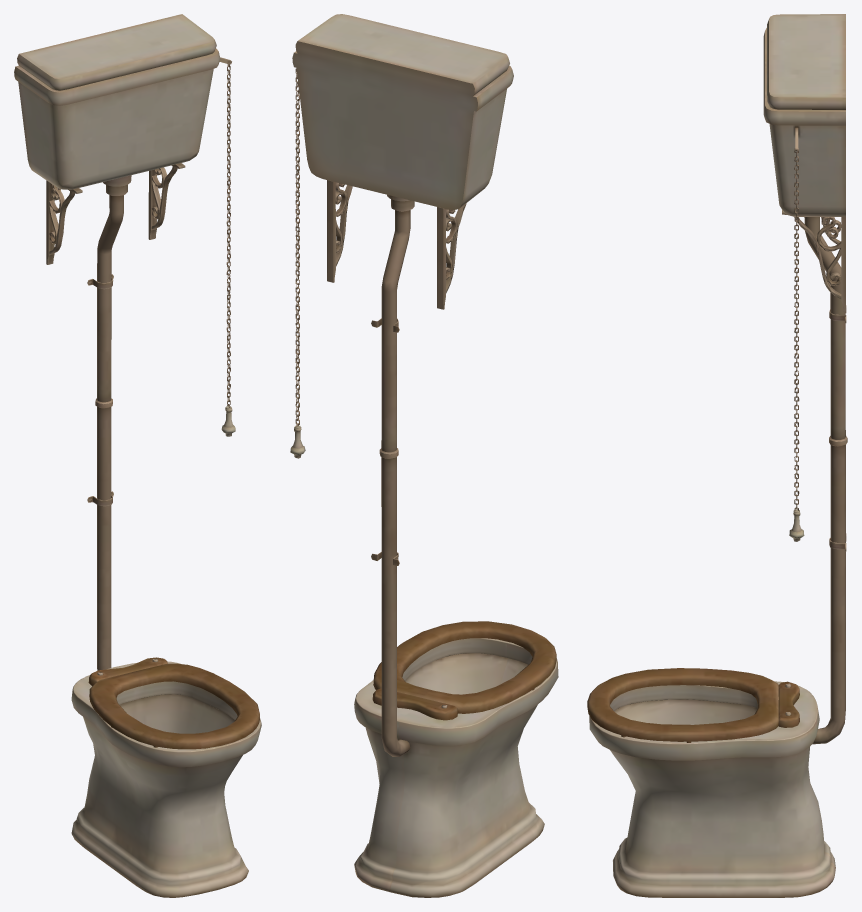
The model's file is SM_toilet_01_2b4eb2.glb.
3 renders of one model, left to right at view 1: azimuth 30°, elevation 25°; view 2: azimuth 150°, elevation 25°; view 3: azimuth 270°, elevation 25°, orthographic. The views are drawn at different scales.
Size of the model in its own units: 0.7623 by 2.86 by 0.8268.
Materials: 1 (1 with a texture image).
